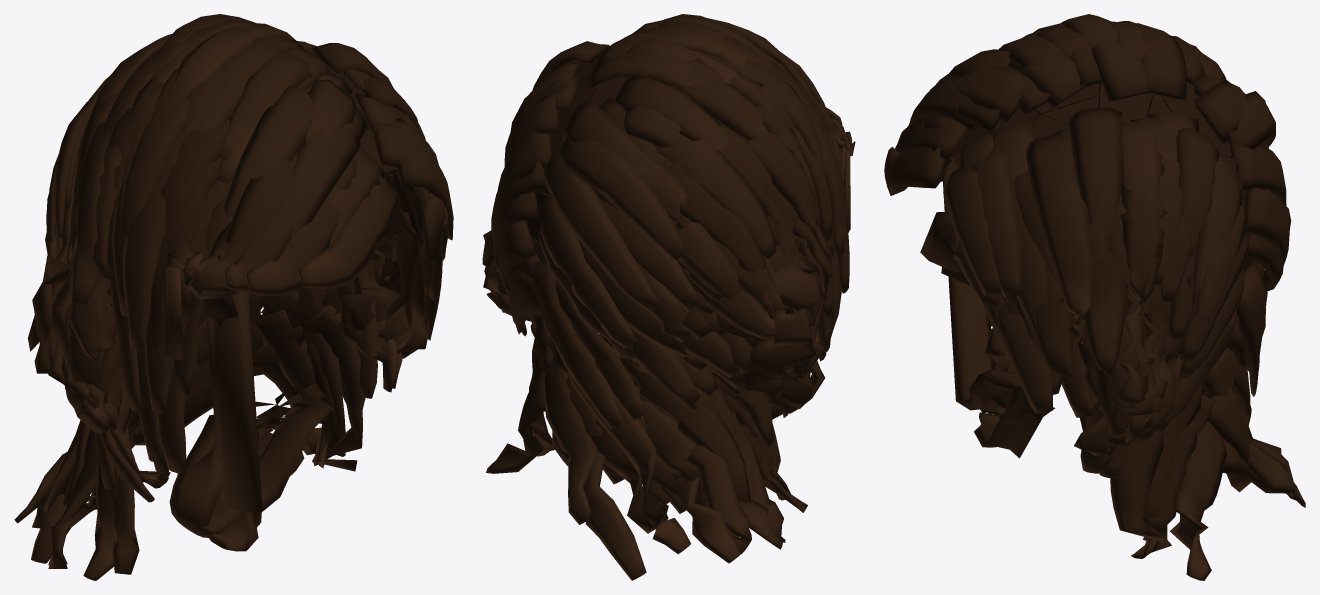
File: kopf.haar.scheitel.glb
3 renders of one model, left to right at view 1: azimuth 30°, elevation 25°; view 2: azimuth 150°, elevation 25°; view 3: azimuth 270°, elevation 25°, orthographic. The views are drawn at different scales.
Parts seen in each view (by area): view 1: haar; view 2: haar; view 3: haar.
Boxes of the visible parts, box(x1,y1,x2,y2) form: haar: box(14, 14, 453, 580); haar: box(482, 14, 855, 580); haar: box(884, 14, 1305, 580).
Size of the model in its own units: 0.2066 by 0.2738 by 0.2056.
